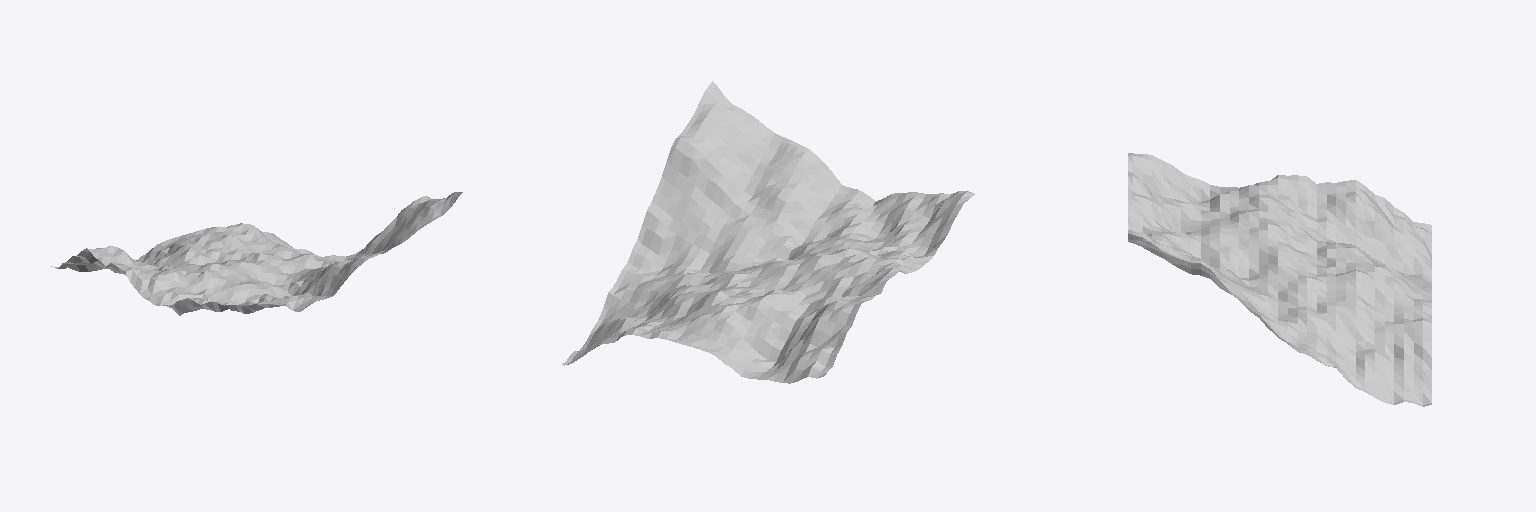
Rendered from heightmap.049.obj.
3 views of the same model, side by side, from view 1: azimuth 30°, elevation 25°; view 2: azimuth 150°, elevation 25°; view 3: azimuth 270°, elevation 25° (orthographic).
Parts seen in each view (by area): view 1: heightmap.049_Plane.049; view 2: heightmap.049_Plane.049; view 3: heightmap.049_Plane.049.
Boxes of the visible parts, x1,y1,x2,y2 form: heightmap.049_Plane.049: [51, 192, 462, 315]; heightmap.049_Plane.049: [562, 81, 974, 383]; heightmap.049_Plane.049: [1128, 153, 1431, 406].
Size of the model in its own units: 32 by 20.3 by 32.